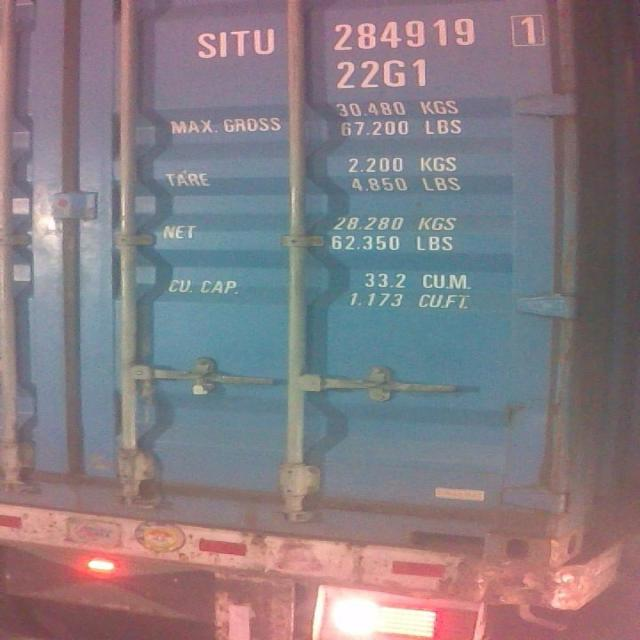seal: (185, 368, 212, 401)
